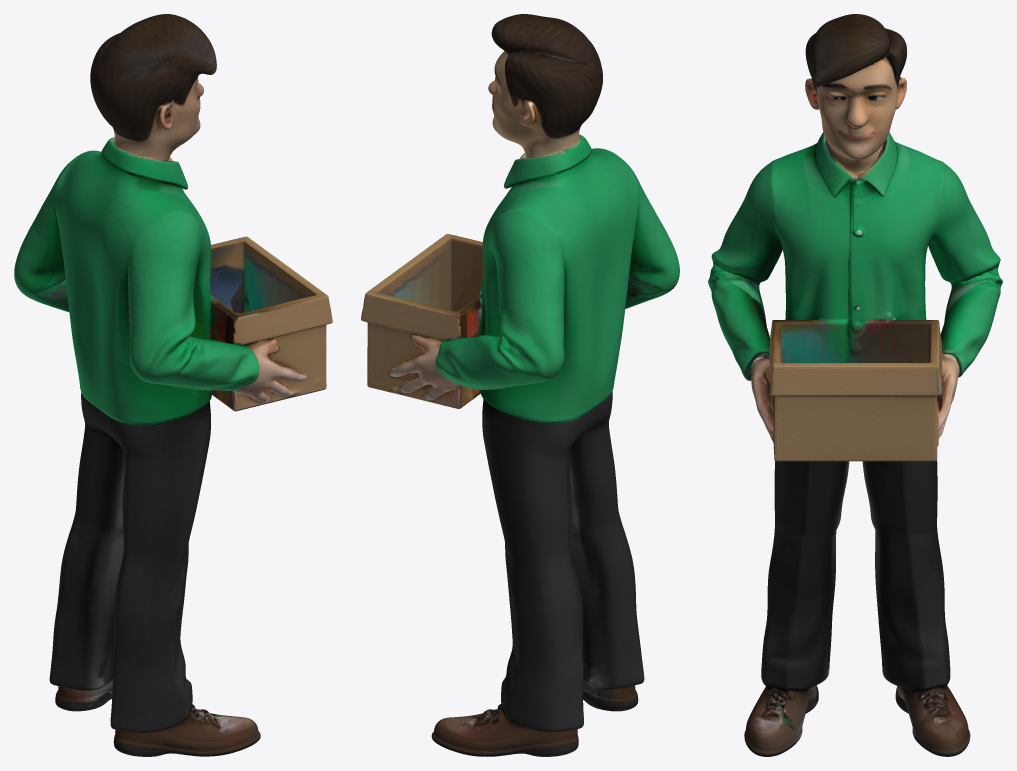
File: Staff_Model.glb
3 renders of one model, left to right at view 1: azimuth 30°, elevation 25°; view 2: azimuth 150°, elevation 25°; view 3: azimuth 270°, elevation 25°, orthographic.
Parts seen in each view (by area): view 1: tripo_node_b84e8ede-f540-409c-a5b5-3164978d5ad2; view 2: tripo_node_b84e8ede-f540-409c-a5b5-3164978d5ad2; view 3: tripo_node_b84e8ede-f540-409c-a5b5-3164978d5ad2.
Boxes of the visible parts, x1,y1,x2,y2 form: tripo_node_b84e8ede-f540-409c-a5b5-3164978d5ad2: (14, 14, 332, 756); tripo_node_b84e8ede-f540-409c-a5b5-3164978d5ad2: (361, 14, 679, 756); tripo_node_b84e8ede-f540-409c-a5b5-3164978d5ad2: (708, 14, 1002, 756).
Bounding box in the file's own units: 0.3237 × 1 × 0.3751.
1 material, 1 textured.
